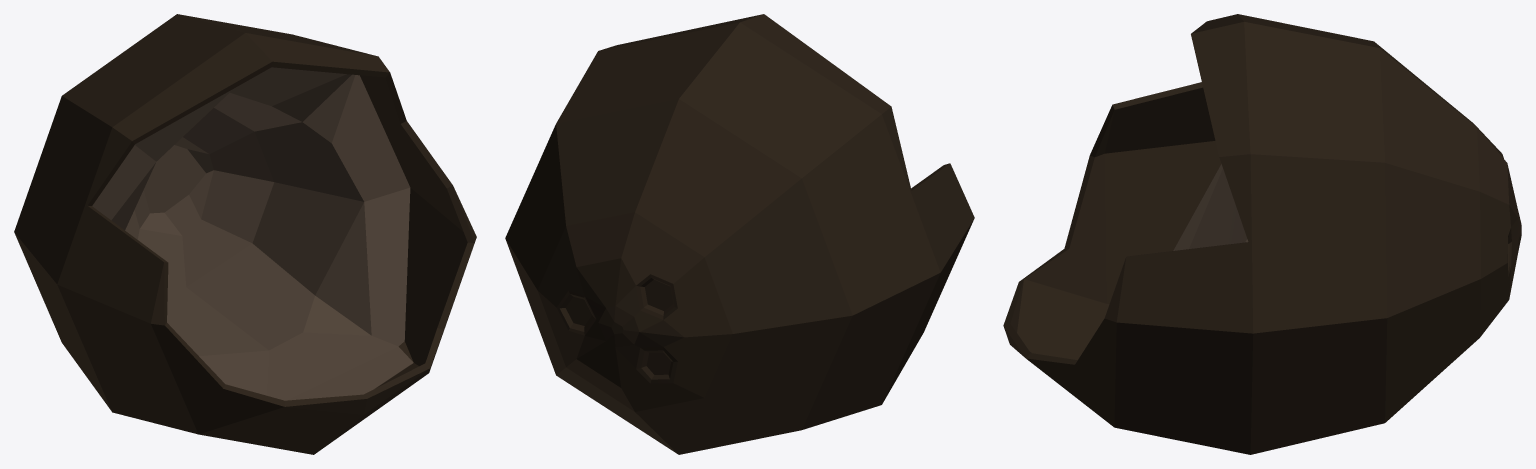
File: Coconut_Rotten.fbx
3 views of the same model, side by side, from view 1: azimuth 30°, elevation 25°; view 2: azimuth 150°, elevation 25°; view 3: azimuth 270°, elevation 25° (orthographic). The views are drawn at different scales.
Visible parts, largest first — view 1: SM_Coconut_Rotten; view 2: SM_Coconut_Rotten; view 3: SM_Coconut_Rotten.
Part boxes in pixels (left/top/right/bottom): SM_Coconut_Rotten: left=14, top=14, right=476, bottom=454; SM_Coconut_Rotten: left=505, top=14, right=974, bottom=454; SM_Coconut_Rotten: left=1003, top=14, right=1521, bottom=454.
Size of the model in its own units: 19.96 by 19.97 by 22.05.
Materials: 1 (1 with a texture image).
